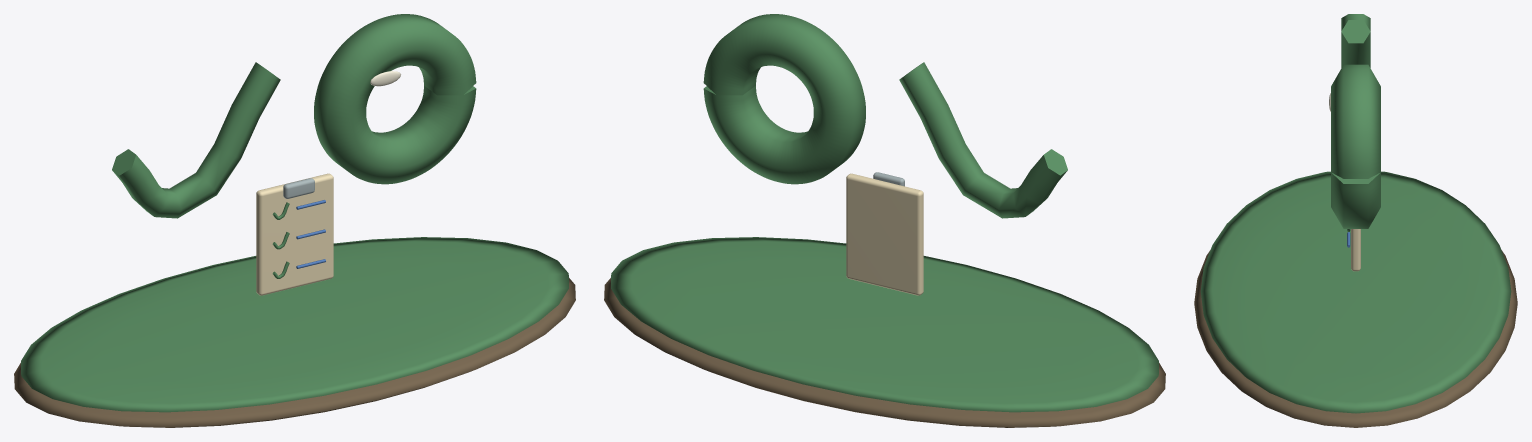
File: complete-second-certain-real.glb
3 renders of one model, left to right at view 1: azimuth 30°, elevation 25°; view 2: azimuth 150°, elevation 25°; view 3: azimuth 270°, elevation 25°, orthographic. The views are drawn at different scales.
Visible parts, largest first — view 1: complete-second-certain-real_surface_01, complete-second-certain-real_surface_00, complete-second-certain-real_surface_03; view 2: complete-second-certain-real_surface_01, complete-second-certain-real_surface_00, complete-second-certain-real_surface_03; view 3: complete-second-certain-real_surface_01, complete-second-certain-real_surface_00, complete-second-certain-real_surface_03.
Part boxes in pixels (x1,y1,x2,y2): complete-second-certain-real_surface_01: [21, 14, 568, 412]; complete-second-certain-real_surface_00: [14, 278, 575, 427]; complete-second-certain-real_surface_03: [256, 173, 333, 295]; complete-second-certain-real_surface_01: [611, 14, 1158, 412]; complete-second-certain-real_surface_00: [604, 278, 1165, 427]; complete-second-certain-real_surface_03: [846, 173, 923, 295]; complete-second-certain-real_surface_01: [1200, 14, 1511, 413]; complete-second-certain-real_surface_00: [1194, 250, 1517, 427]; complete-second-certain-real_surface_03: [1351, 229, 1360, 271].
Size of the model in its own units: 4.56 by 2.49 by 2.5.
